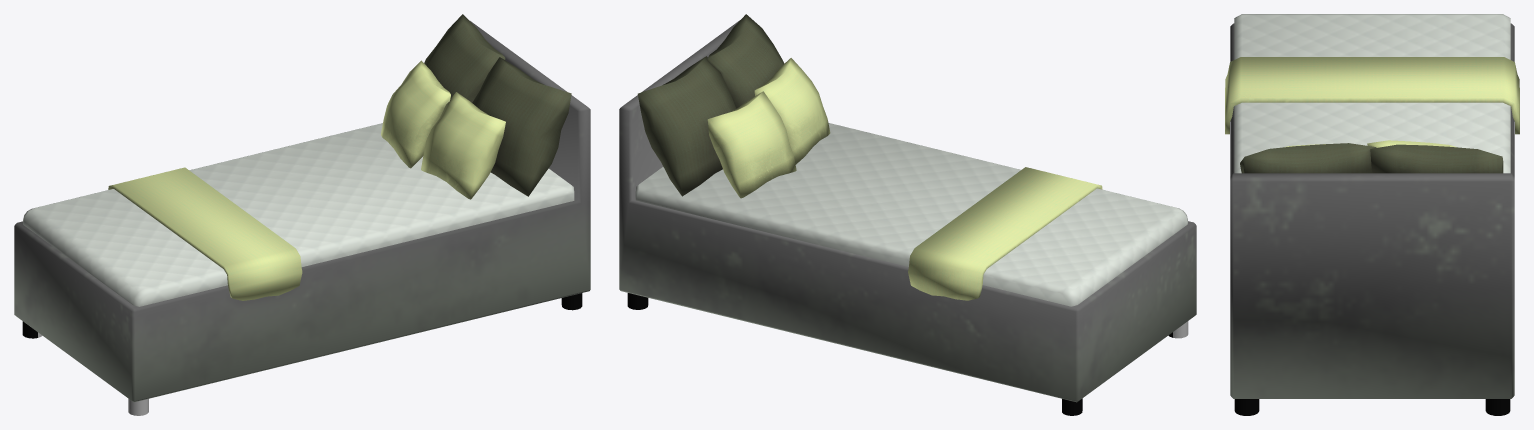
Rendered from mdl_Bett.fbx.
The picture shows the model from 3 angles, left to right: view 1: azimuth 30°, elevation 25°; view 2: azimuth 150°, elevation 25°; view 3: azimuth 270°, elevation 25°; orthographic projection. The views are drawn at different scales.
Visible parts, largest first — view 1: Bett.001; view 2: Bett.001; view 3: Bett.001.
Part boxes in pixels (<box>): Bett.001: <box>14,14,590,415</box>; Bett.001: <box>619,14,1196,415</box>; Bett.001: <box>1225,14,1519,415</box>.
Size of the model in its own units: 262 by 118 by 123.
